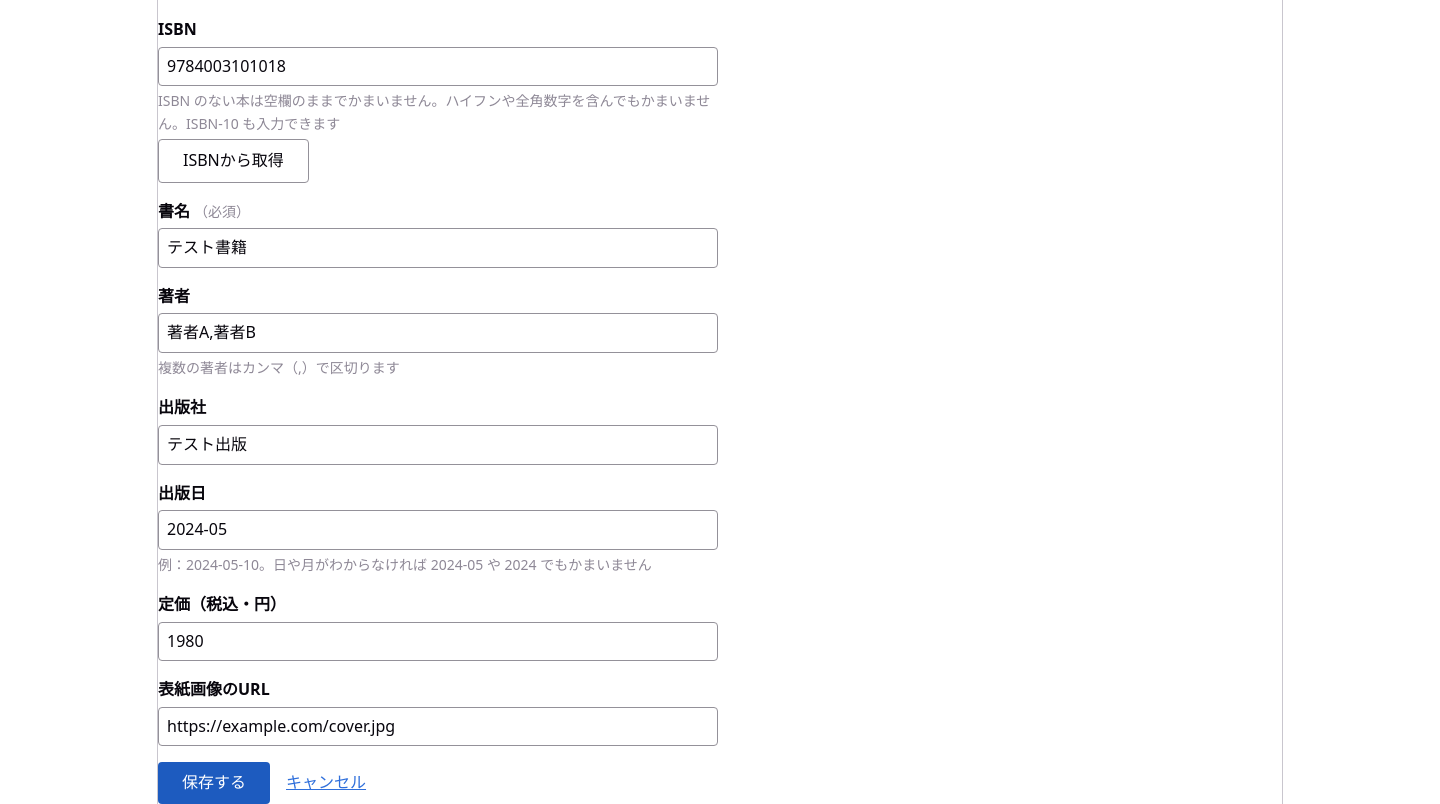
Test: BookEditPage › ISBNが他の本と重複したら、その本へのリンクを出す
(page scrolled)
Step 1. Click the button "保存する" → click(214, 783), box [158,762,270,803]
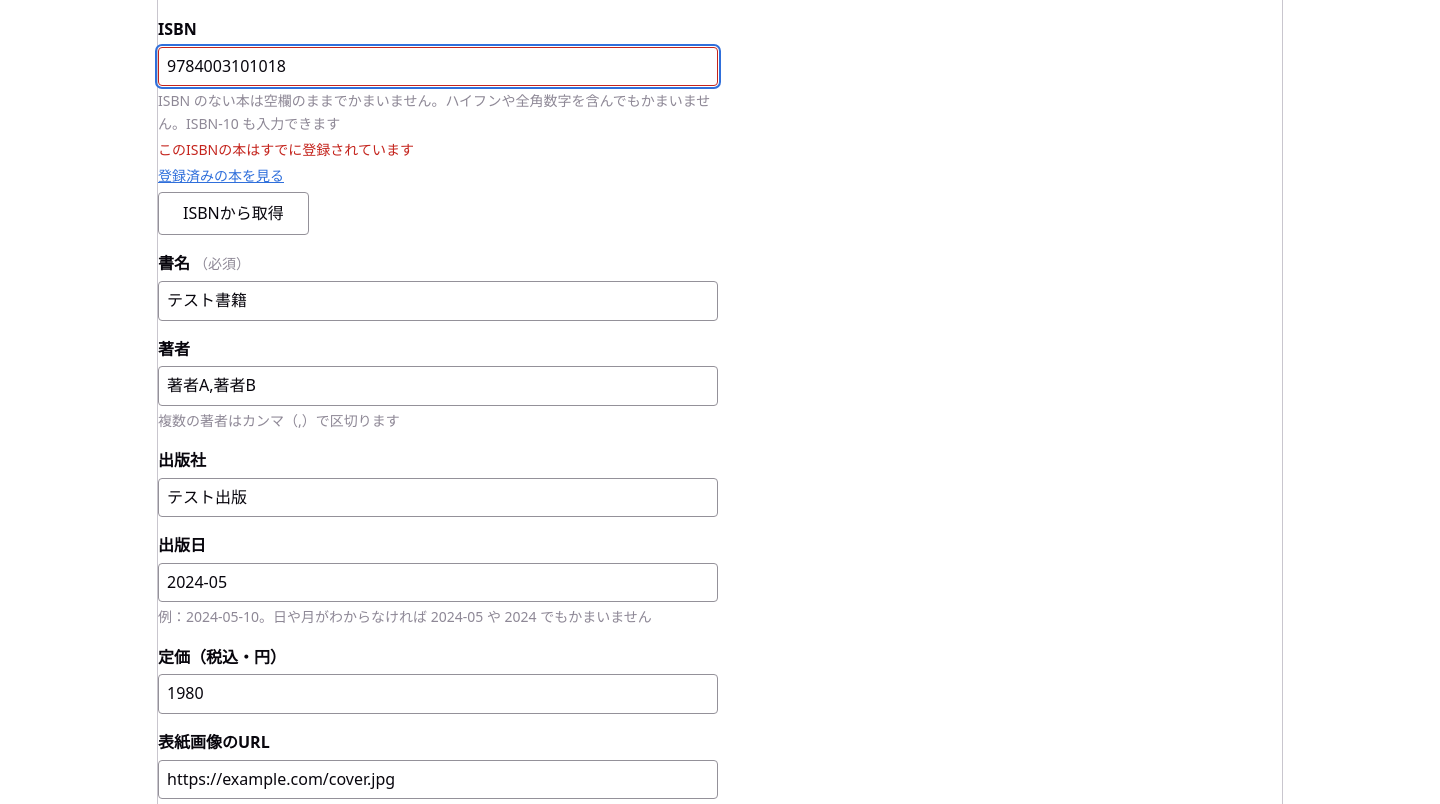
Check: the text "このISBNの本はすでに登録されています" is shown, box [158,140,414,159]
